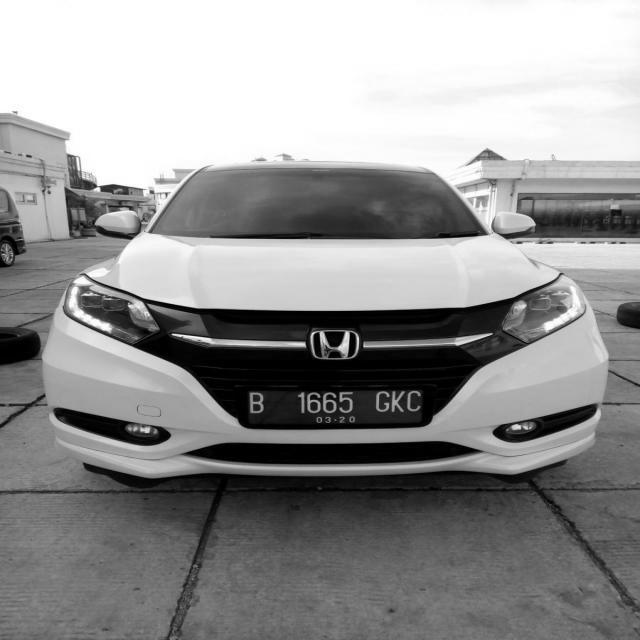1: (294, 391, 308, 416)
5: (337, 390, 357, 416)
6: (320, 390, 338, 416), (307, 390, 321, 416)
B: (240, 385, 270, 418)
C: (406, 390, 423, 416)
G: (374, 391, 392, 416)
K: (391, 390, 407, 416)
